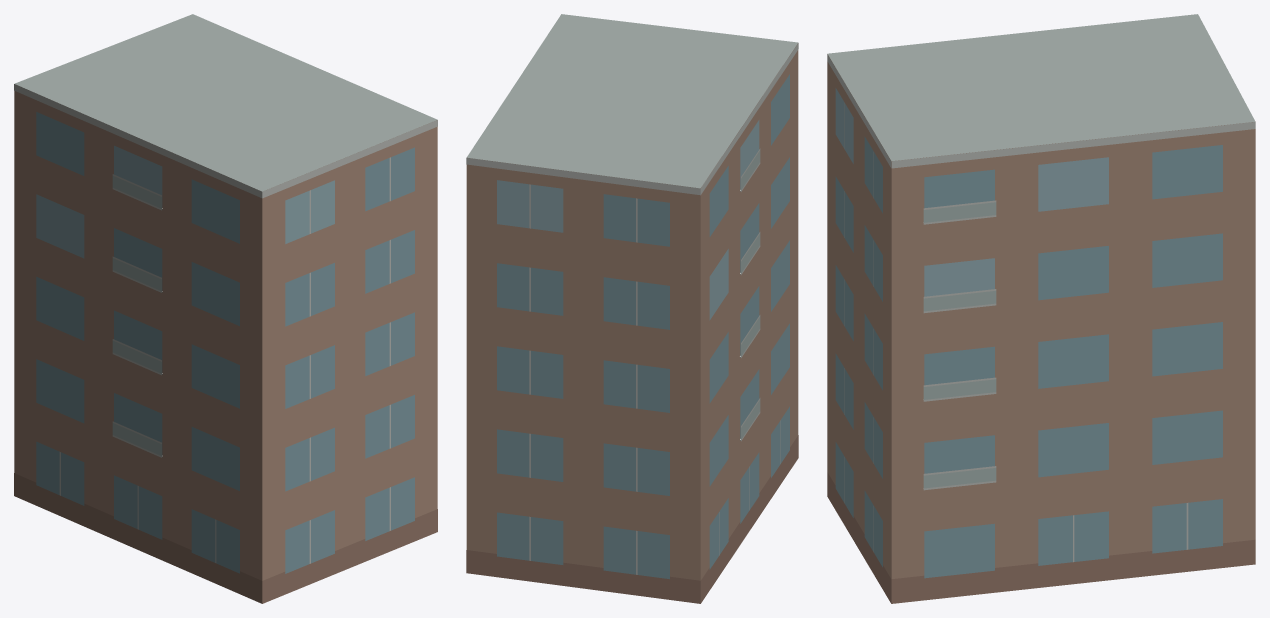
The model's file is survey-upis-32816709.glb.
The picture shows the model from 3 angles, left to right: view 1: azimuth 30°, elevation 25°; view 2: azimuth 150°, elevation 25°; view 3: azimuth 270°, elevation 25°; orthographic projection. The views are drawn at different scales.
Visible parts, largest first — view 1: survey-upis-32816709.tmp; view 2: survey-upis-32816709.tmp; view 3: survey-upis-32816709.tmp.
Boxes of the visible parts, x1=… form: survey-upis-32816709.tmp: x1=14, y1=14, x2=437, y2=603; survey-upis-32816709.tmp: x1=466, y1=14, x2=798, y2=603; survey-upis-32816709.tmp: x1=827, y1=14, x2=1255, y2=603.
Size of the model in its own units: 10.56 by 14.8 by 12.99.
